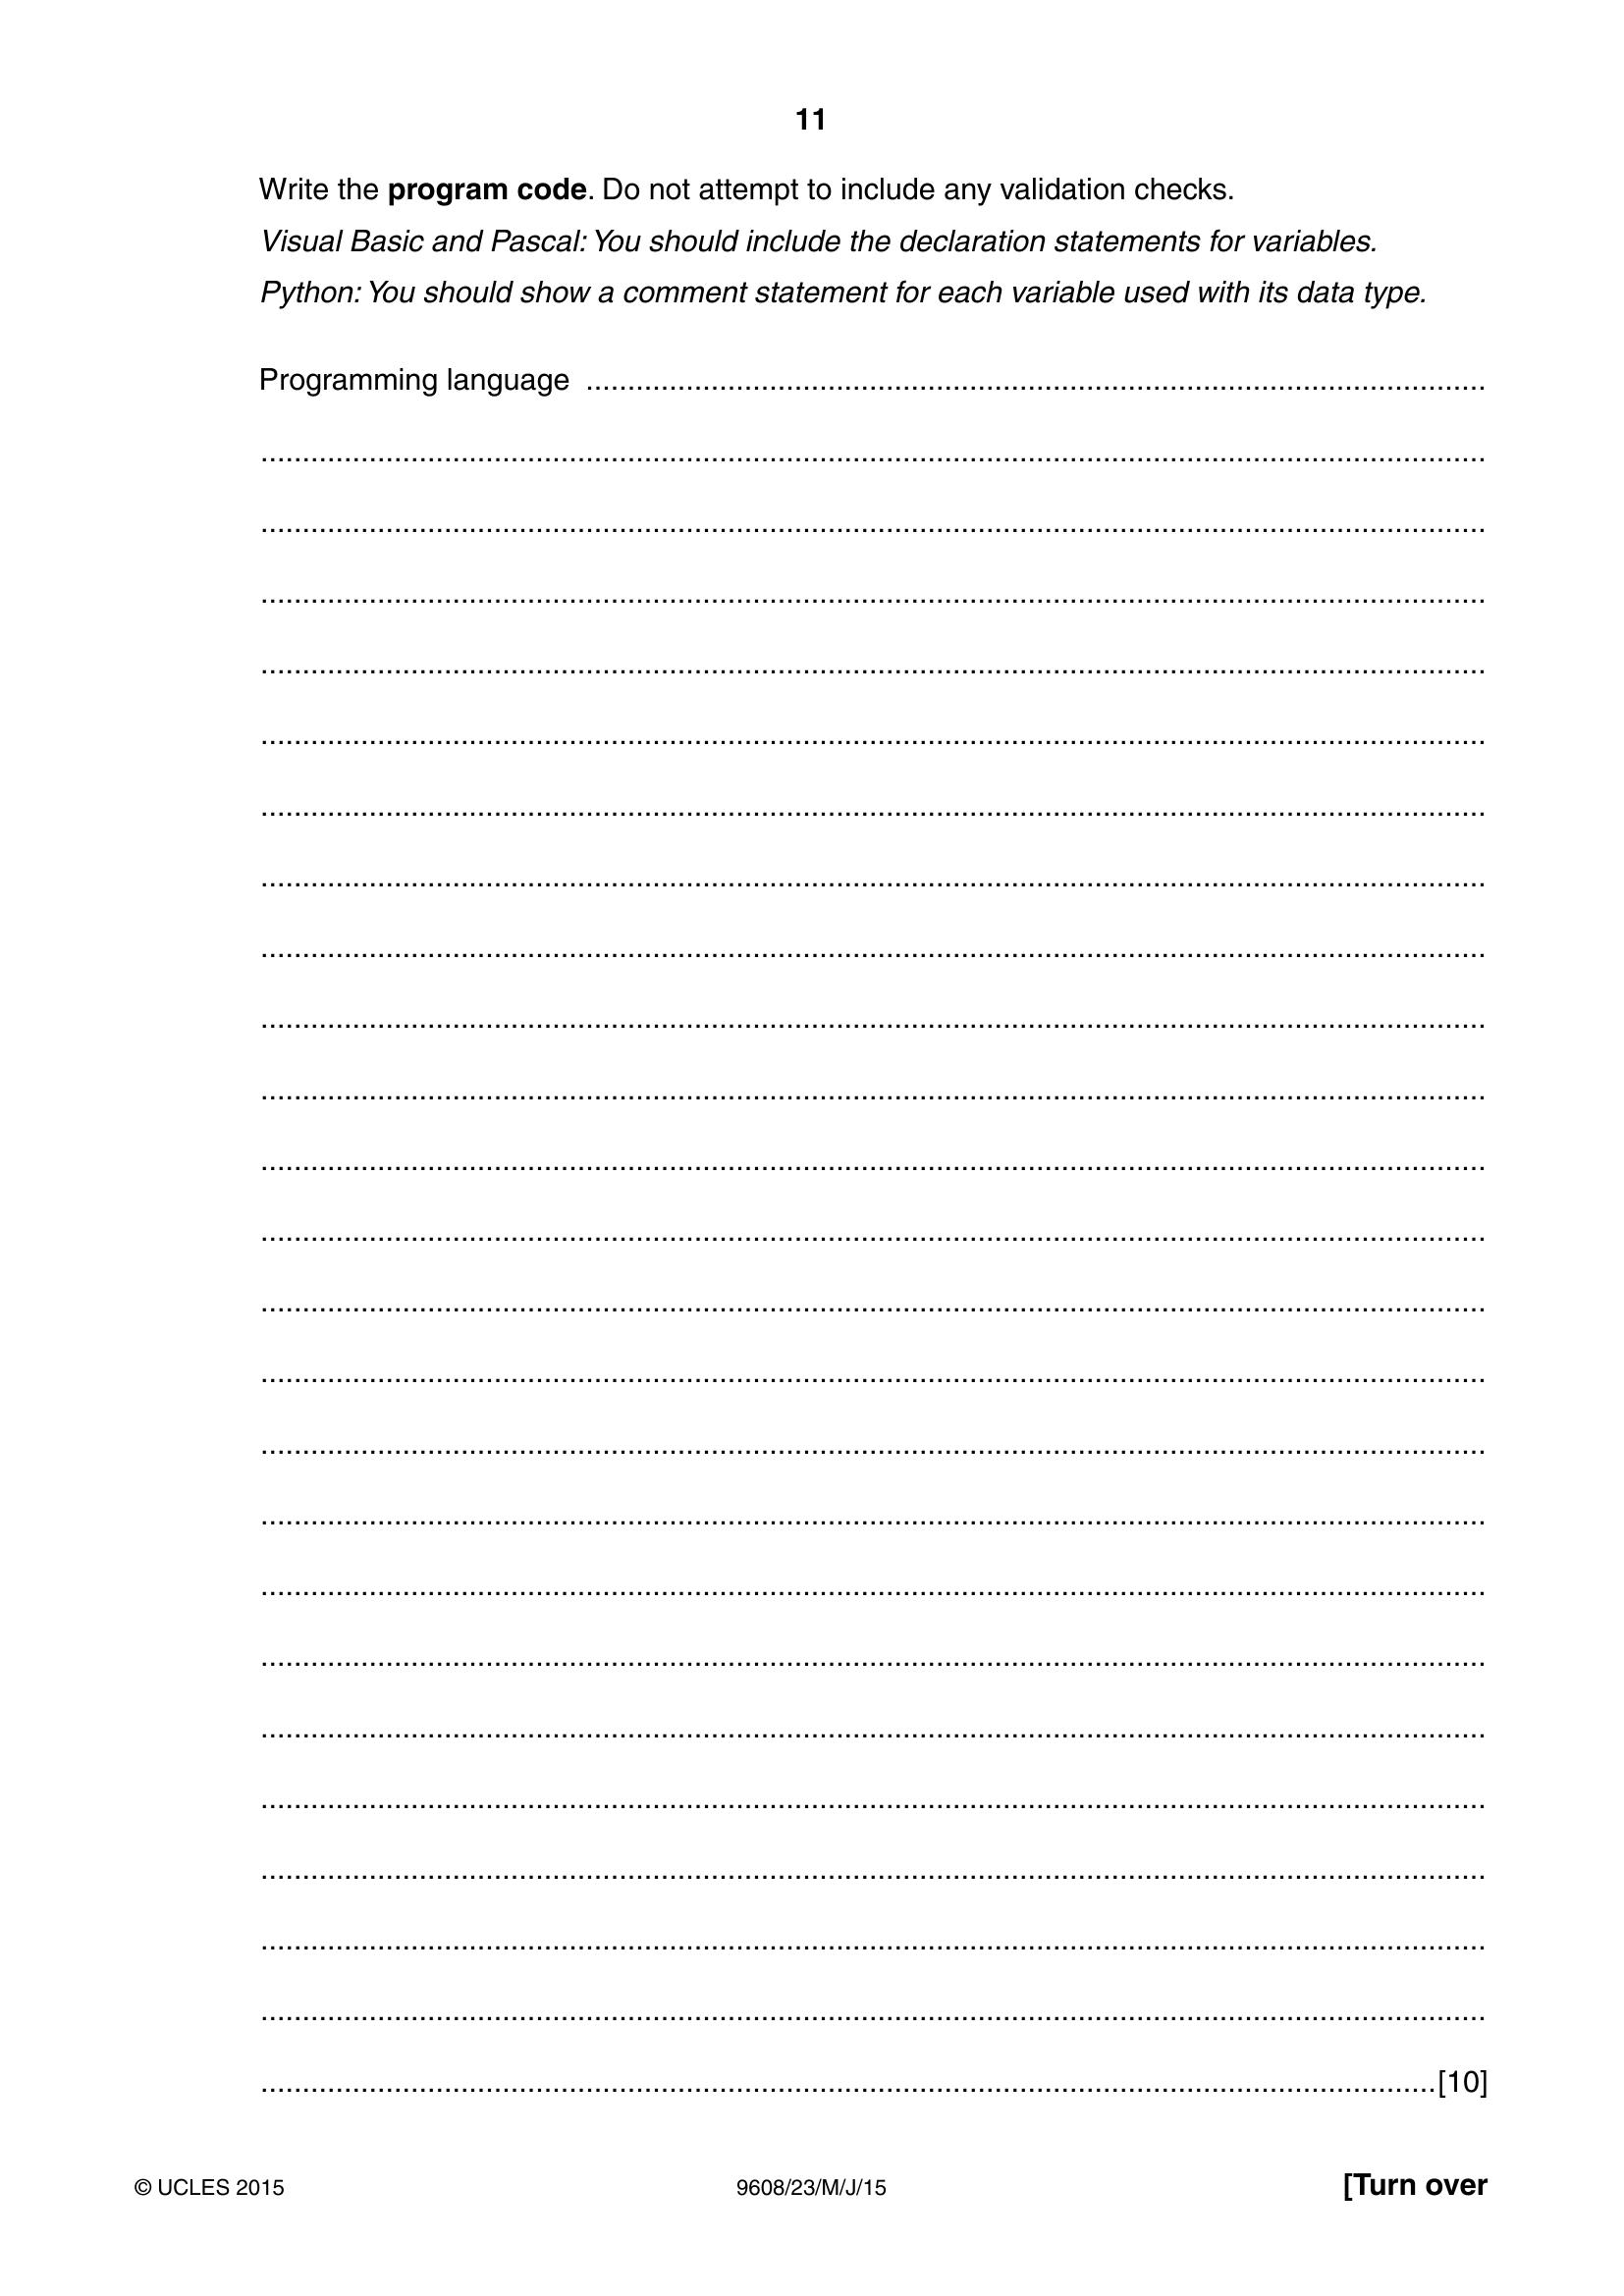continued question: (11, 160, 1624, 2110)
